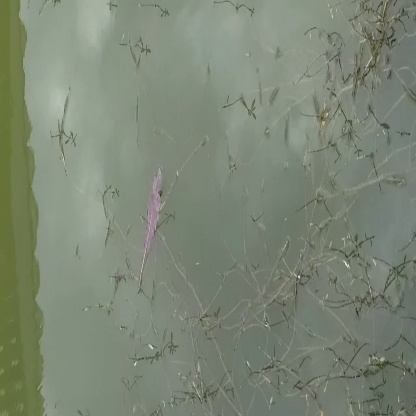leaf: (135, 167, 179, 293)
